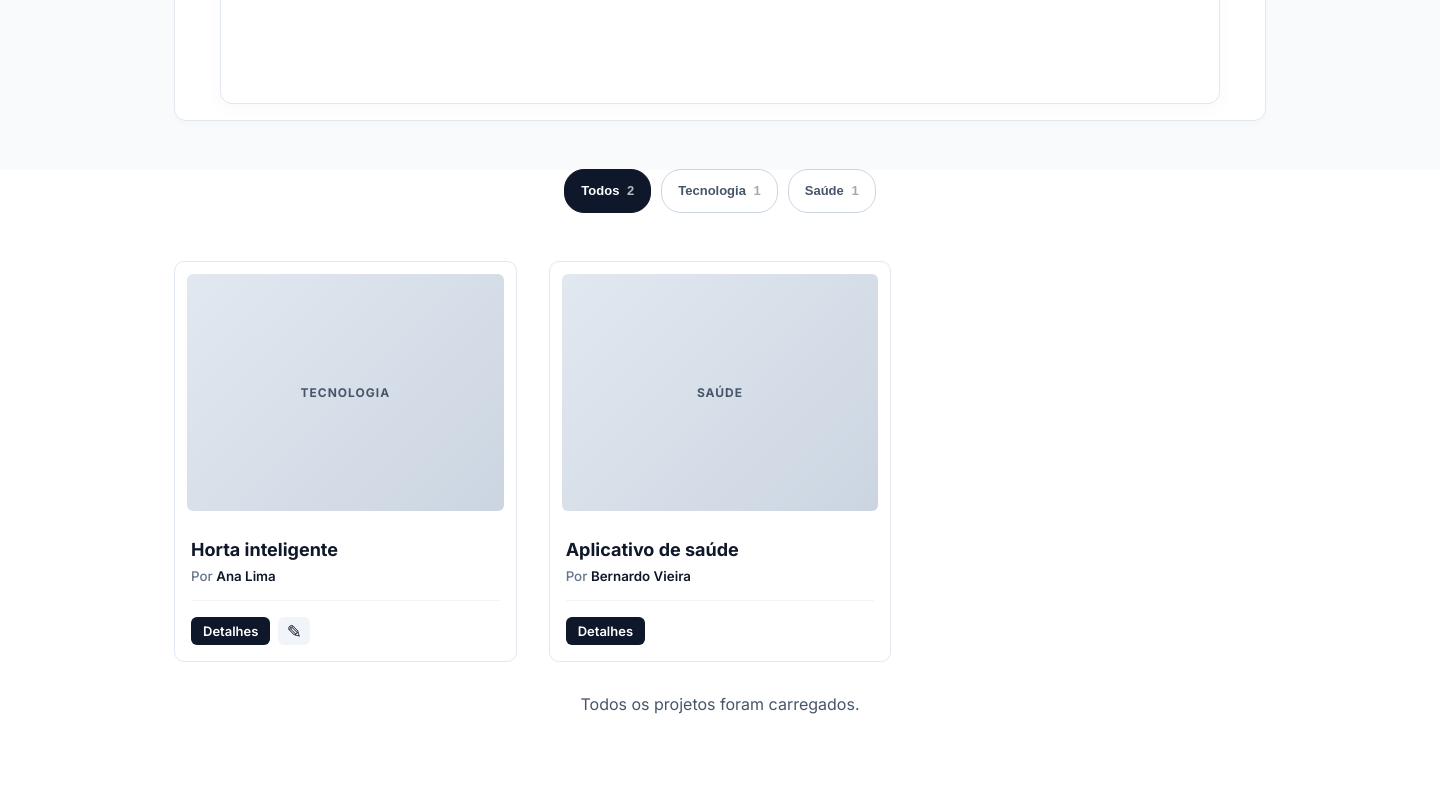
Projetos › oferece o lápis apenas nos projetos da conta atual e abre as ações no detalhe
(page scrolled)
Expected: the heading "Aplicativo de saúde" is shown, [566,539,739,560]
Expected: the button "Apagar" is not shown
Click the link named "Gerenciar Horta inteligente": (294,631) [278,617,310,645]
(page scrolled)
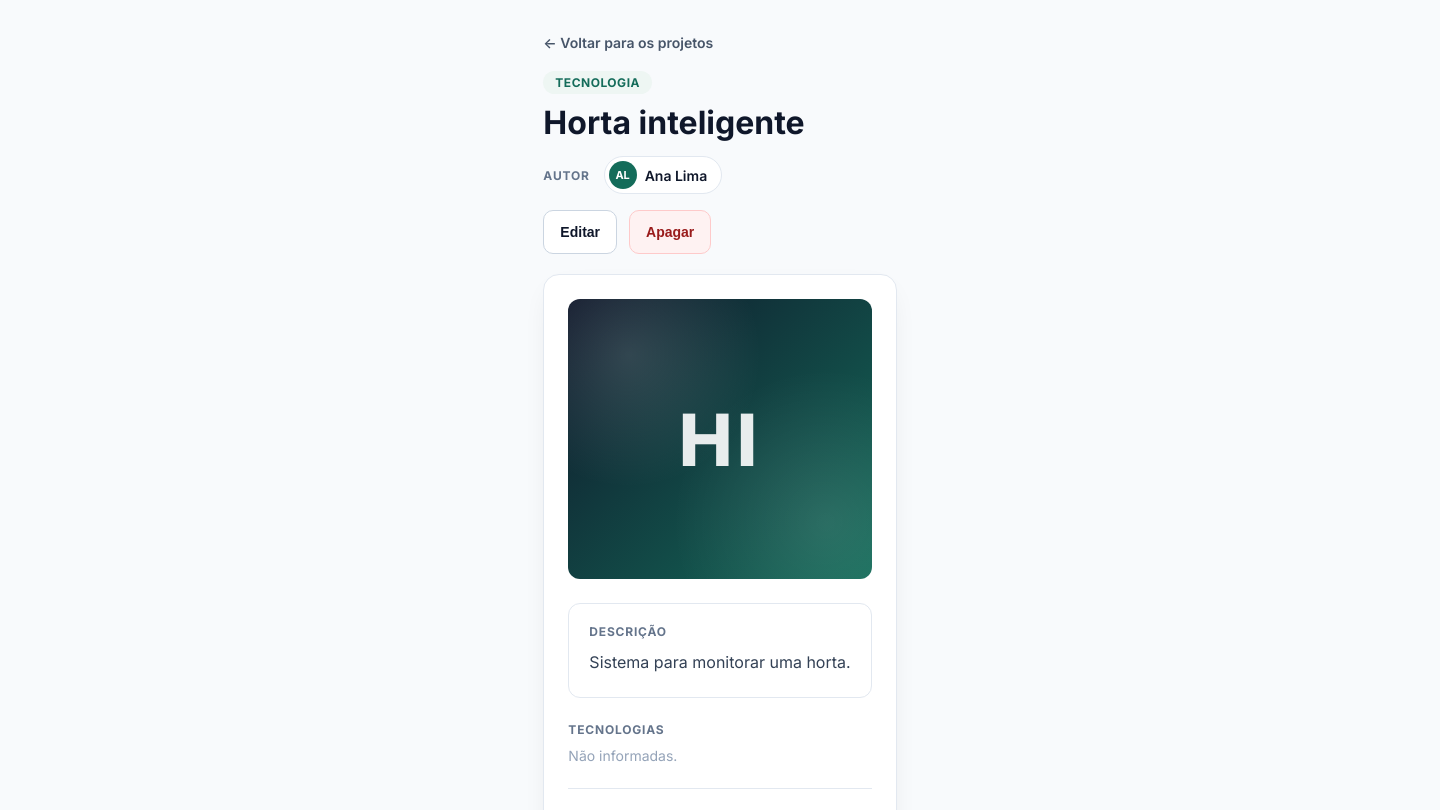
Expected: the button "Apagar" is shown, [629,210,711,254]
Expected: the button "Editar" is shown, [543,210,617,254]
